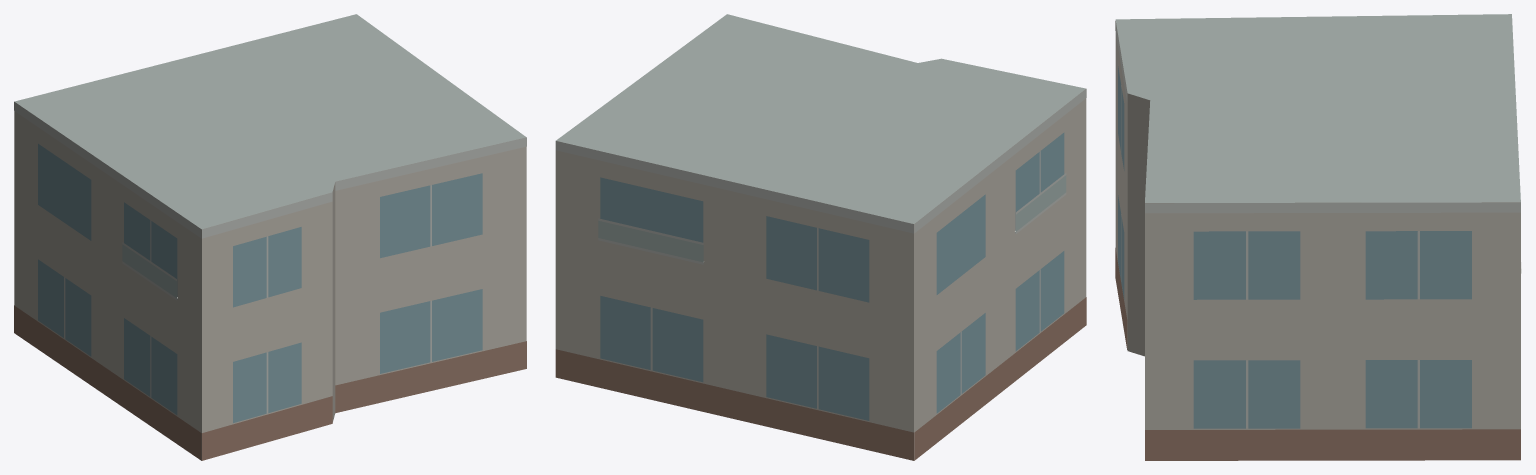
File: survey-upis-32908969.glb
3 views of the same model, side by side, from view 1: azimuth 30°, elevation 25°; view 2: azimuth 150°, elevation 25°; view 3: azimuth 270°, elevation 25° (orthographic). The views are drawn at different scales.
Visible parts, largest first — view 1: survey-upis-32908969.tmp; view 2: survey-upis-32908969.tmp; view 3: survey-upis-32908969.tmp.
Boxes of the visible parts, left/top/right/bottom form: survey-upis-32908969.tmp: left=14, top=14, right=526, bottom=460; survey-upis-32908969.tmp: left=555, top=14, right=1086, bottom=460; survey-upis-32908969.tmp: left=1115, top=14, right=1521, bottom=460.
Bounding box in the file's own units: 9.6 × 6.1 × 8.72.
